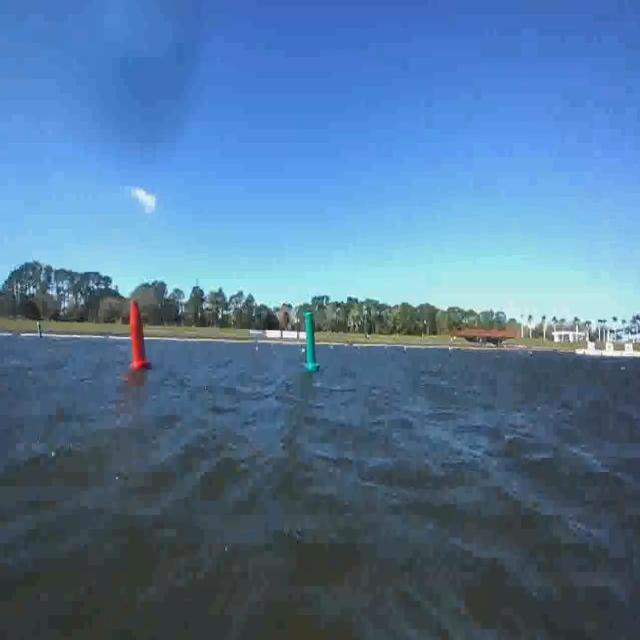green-column-buoy: (304, 312, 320, 372)
red-column-buoy: (129, 301, 152, 372)
